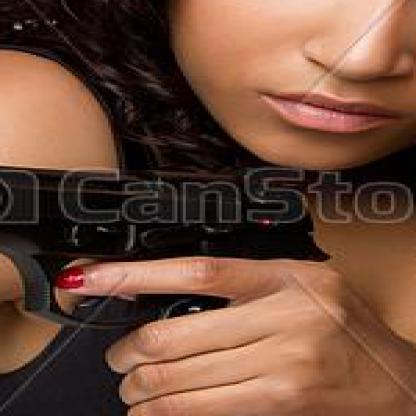gun: (0, 137, 305, 414)
